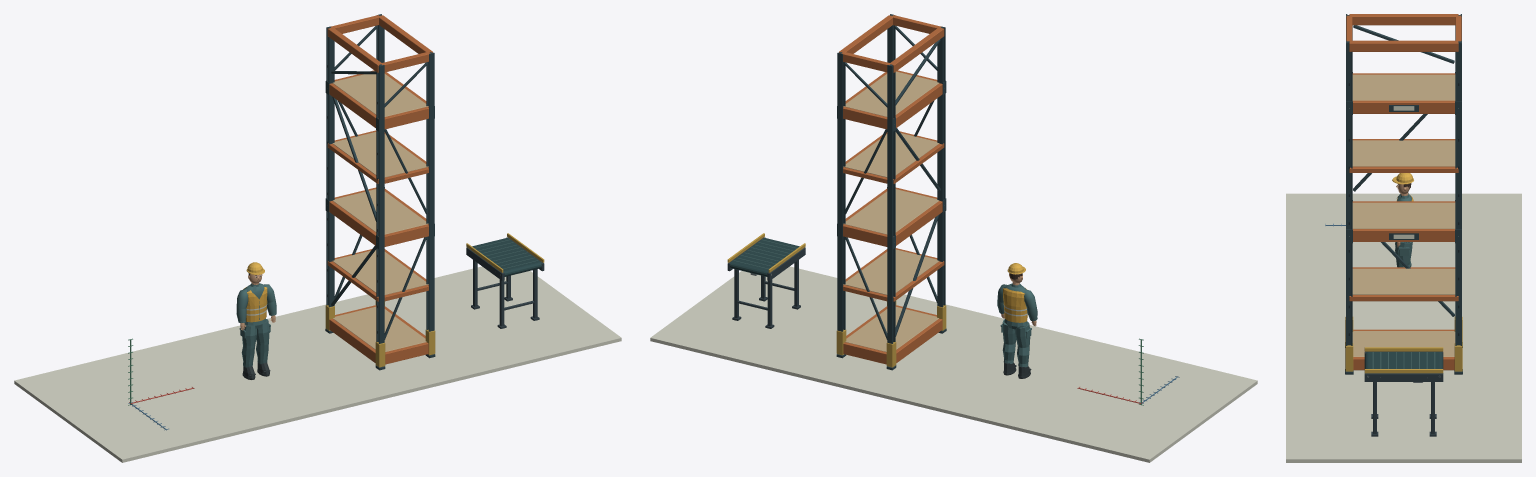
The model's file is calibration-v2.glb.
The picture shows the model from 3 angles, left to right: view 1: azimuth 30°, elevation 25°; view 2: azimuth 150°, elevation 25°; view 3: azimuth 270°, elevation 25°; orthographic projection. The views are drawn at different scales.
Parts seen in each view (by area): view 1: Calibration_support_surface, calibration_rack__4_65m::rack-high__material_05, calibration_rack__4_65m::rack-high__material_01, calibration_rack__4_65m::rack-high__material_03, calibration_conveyor__0_9m::conveyor-high__material_02, calibration_conveyor__0_9m::conveyor-high__material_00, calibration_rack__4_65m::rack-high__material_06; view 2: Calibration_support_surface, calibration_rack__4_65m::rack-high__material_05, calibration_rack__4_65m::rack-high__material_01, calibration_rack__4_65m::rack-high__material_03, calibration_conveyor__0_9m::conveyor-high__material_02, calibration_conveyor__0_9m::conveyor-high__material_00, calibration_rack__4_65m::rack-high__material_06, calibration_worker__1_7m::continuous_tailored_vest; view 3: Calibration_support_surface, calibration_rack__4_65m::rack-high__material_05, calibration_rack__4_65m::rack-high__material_03, calibration_rack__4_65m::rack-high__material_01, calibration_conveyor__0_9m::conveyor-high__material_02, calibration_conveyor__0_9m::conveyor-high__material_00, calibration_conveyor__0_9m::conveyor-high__material_04, calibration_rack__4_65m::rack-high__material_06, calibration_worker__1_7m::full_work_trouser_thigh_R.
Boxes of the visible parts, x1=… form: Calibration_support_surface: x1=14, y1=266, x2=621, y2=462; calibration_rack__4_65m::rack-high__material_05: x1=332, y1=74, x2=428, y2=351; calibration_rack__4_65m::rack-high__material_01: x1=325, y1=14, x2=435, y2=370; calibration_rack__4_65m::rack-high__material_03: x1=327, y1=15, x2=432, y2=364; calibration_conveyor__0_9m::conveyor-high__material_02: x1=466, y1=237, x2=544, y2=328; calibration_conveyor__0_9m::conveyor-high__material_00: x1=472, y1=237, x2=541, y2=276; calibration_rack__4_65m::rack-high__material_06: x1=325, y1=300, x2=435, y2=367; Calibration_support_surface: x1=650, y1=266, x2=1257, y2=462; calibration_rack__4_65m::rack-high__material_05: x1=843, y1=71, x2=939, y2=351; calibration_rack__4_65m::rack-high__material_01: x1=836, y1=14, x2=946, y2=370; calibration_rack__4_65m::rack-high__material_03: x1=839, y1=15, x2=944, y2=364; calibration_conveyor__0_9m::conveyor-high__material_02: x1=727, y1=237, x2=805, y2=328; calibration_conveyor__0_9m::conveyor-high__material_00: x1=730, y1=237, x2=799, y2=276; calibration_rack__4_65m::rack-high__material_06: x1=836, y1=300, x2=946, y2=367; calibration_worker__1_7m::continuous_tailored_vest: x1=1003, y1=288, x2=1027, y2=322; Calibration_support_surface: x1=1286, y1=193, x2=1521, y2=462; calibration_rack__4_65m::rack-high__material_05: x1=1352, y1=74, x2=1455, y2=356; calibration_rack__4_65m::rack-high__material_03: x1=1346, y1=14, x2=1461, y2=370; calibration_rack__4_65m::rack-high__material_01: x1=1345, y1=14, x2=1462, y2=374; calibration_conveyor__0_9m::conveyor-high__material_02: x1=1364, y1=351, x2=1443, y2=436; calibration_conveyor__0_9m::conveyor-high__material_00: x1=1364, y1=352, x2=1443, y2=368; calibration_conveyor__0_9m::conveyor-high__material_04: x1=1364, y1=347, x2=1443, y2=373; calibration_rack__4_65m::rack-high__material_06: x1=1345, y1=317, x2=1462, y2=371; calibration_worker__1_7m::full_work_trouser_thigh_R: x1=1395, y1=242, x2=1412, y2=266.
Bounding box in the file's own units: 8 × 4.7 × 3.
